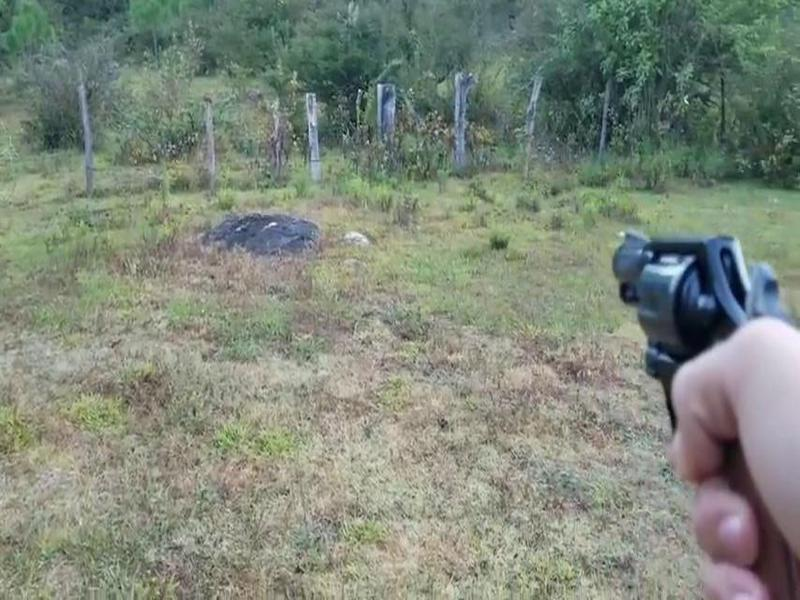Revolver: (563, 194, 796, 437)
